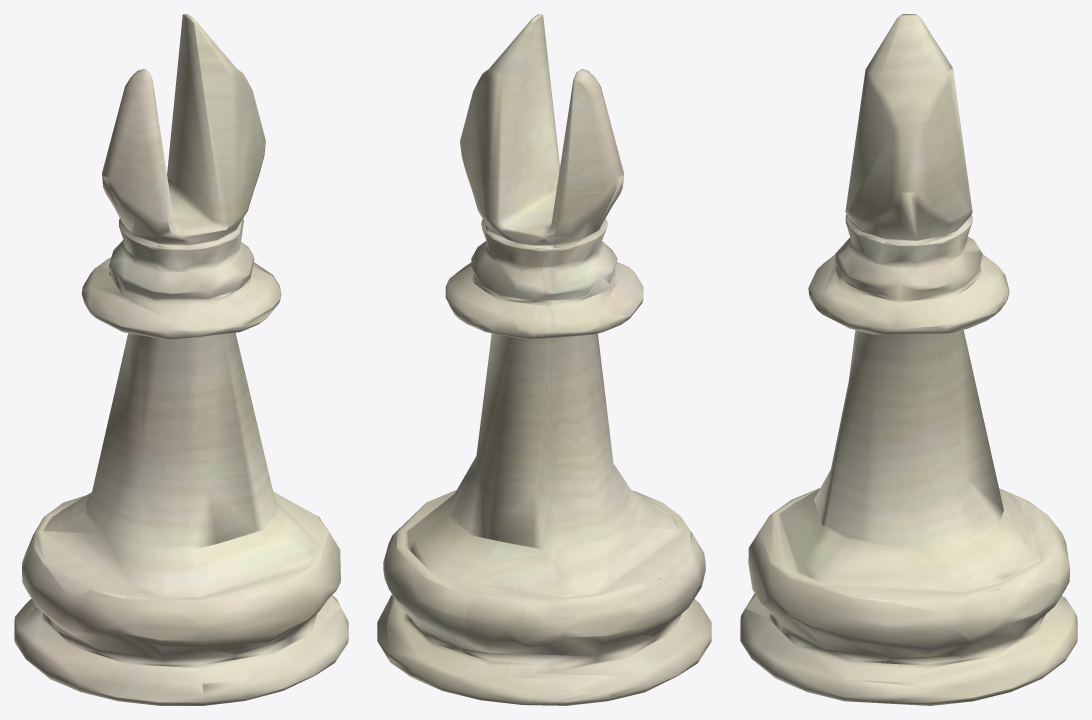
File: Bishop.obj
3 views of the same model, side by side, from view 1: azimuth 30°, elevation 25°; view 2: azimuth 150°, elevation 25°; view 3: azimuth 270°, elevation 25° (orthographic).
Parts seen in each view (by area): view 1: mesh01.001; view 2: mesh01.001; view 3: mesh01.001.
Part boxes in pixels (x1,y1,x2,y2): mesh01.001: (14,14,348,705); mesh01.001: (377,14,711,705); mesh01.001: (740,14,1077,705).
Bounding box in the file's own units: 13.05 × 26.67 × 13.05.
1 material, 1 textured.
